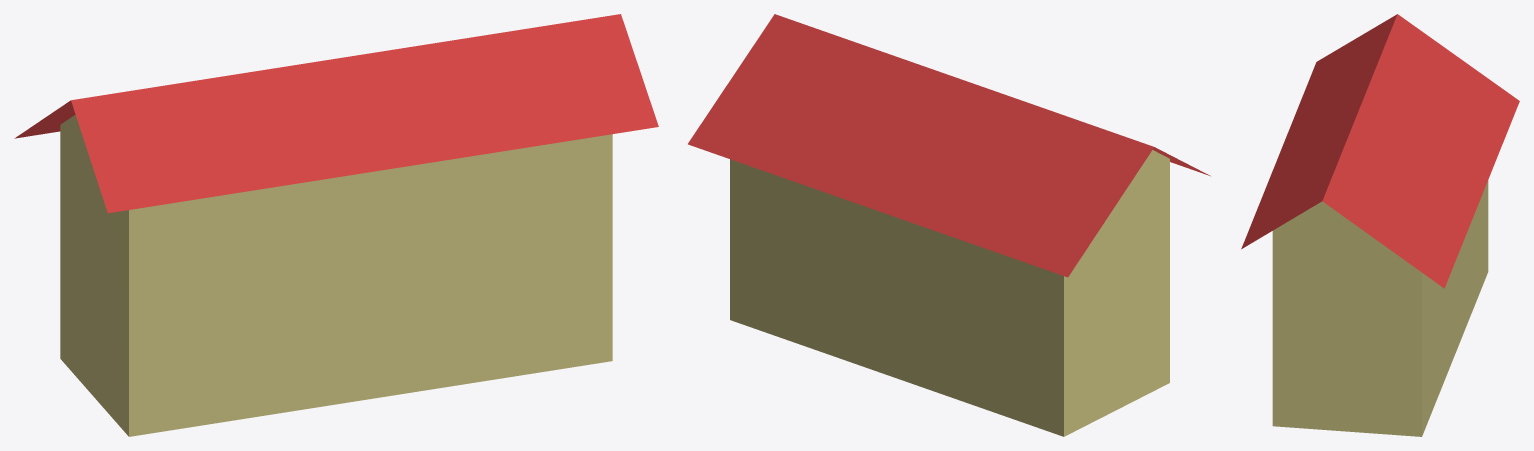
3 views of the same model, side by side, from view 1: azimuth 30°, elevation 25°; view 2: azimuth 150°, elevation 25°; view 3: azimuth 270°, elevation 25° (orthographic). The views are drawn at different scales.
Bounding box in the file's own units: 13.03 × 7.59 × 7.22.
